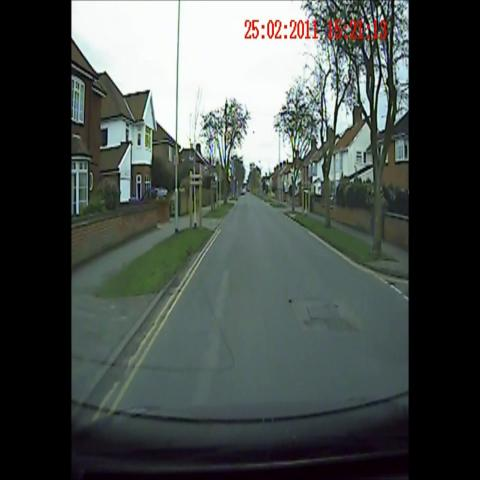pothole: (283, 283, 362, 347)
